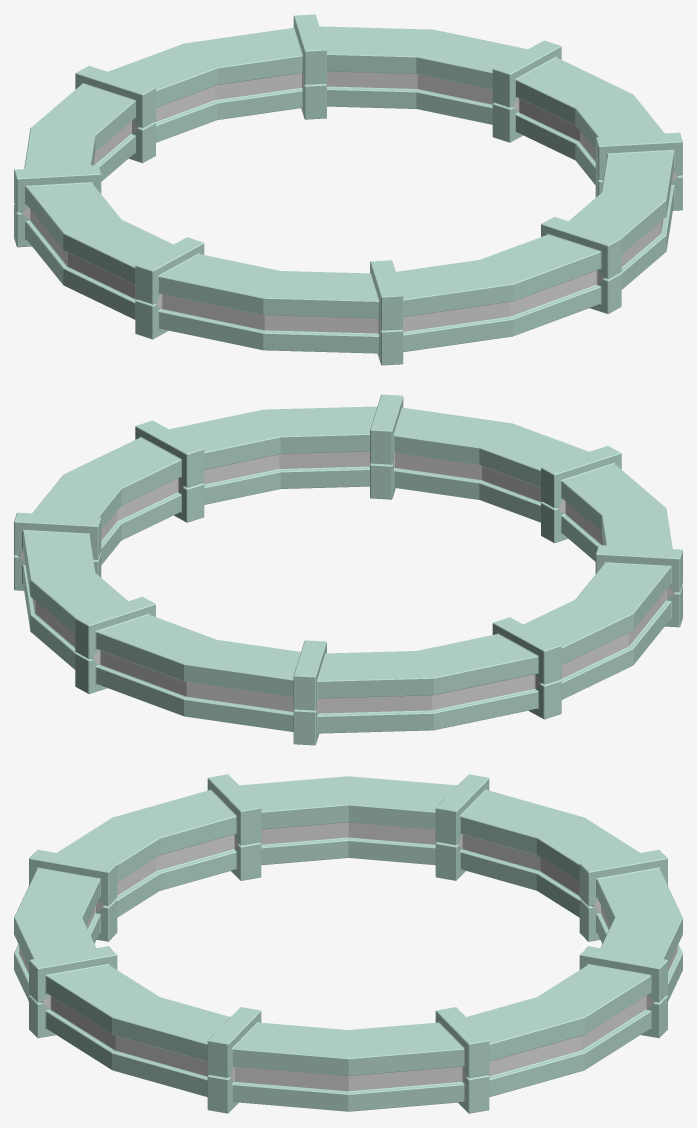
3 views of the same model, one above another, from view 1: azimuth 30°, elevation 25°; view 2: azimuth 150°, elevation 25°; view 3: azimuth 270°, elevation 25° (orthographic).
Parts seen in each view (by area): view 1: Circle.008; view 2: Circle.008; view 3: Circle.008.
Boxes of the visible parts, <box> form: Circle.008: <box>14,14,682,365</box>; Circle.008: <box>14,394,682,745</box>; Circle.008: <box>14,774,682,1113</box>.
Bounding box in the file's own units: 200 × 23.08 × 200.
